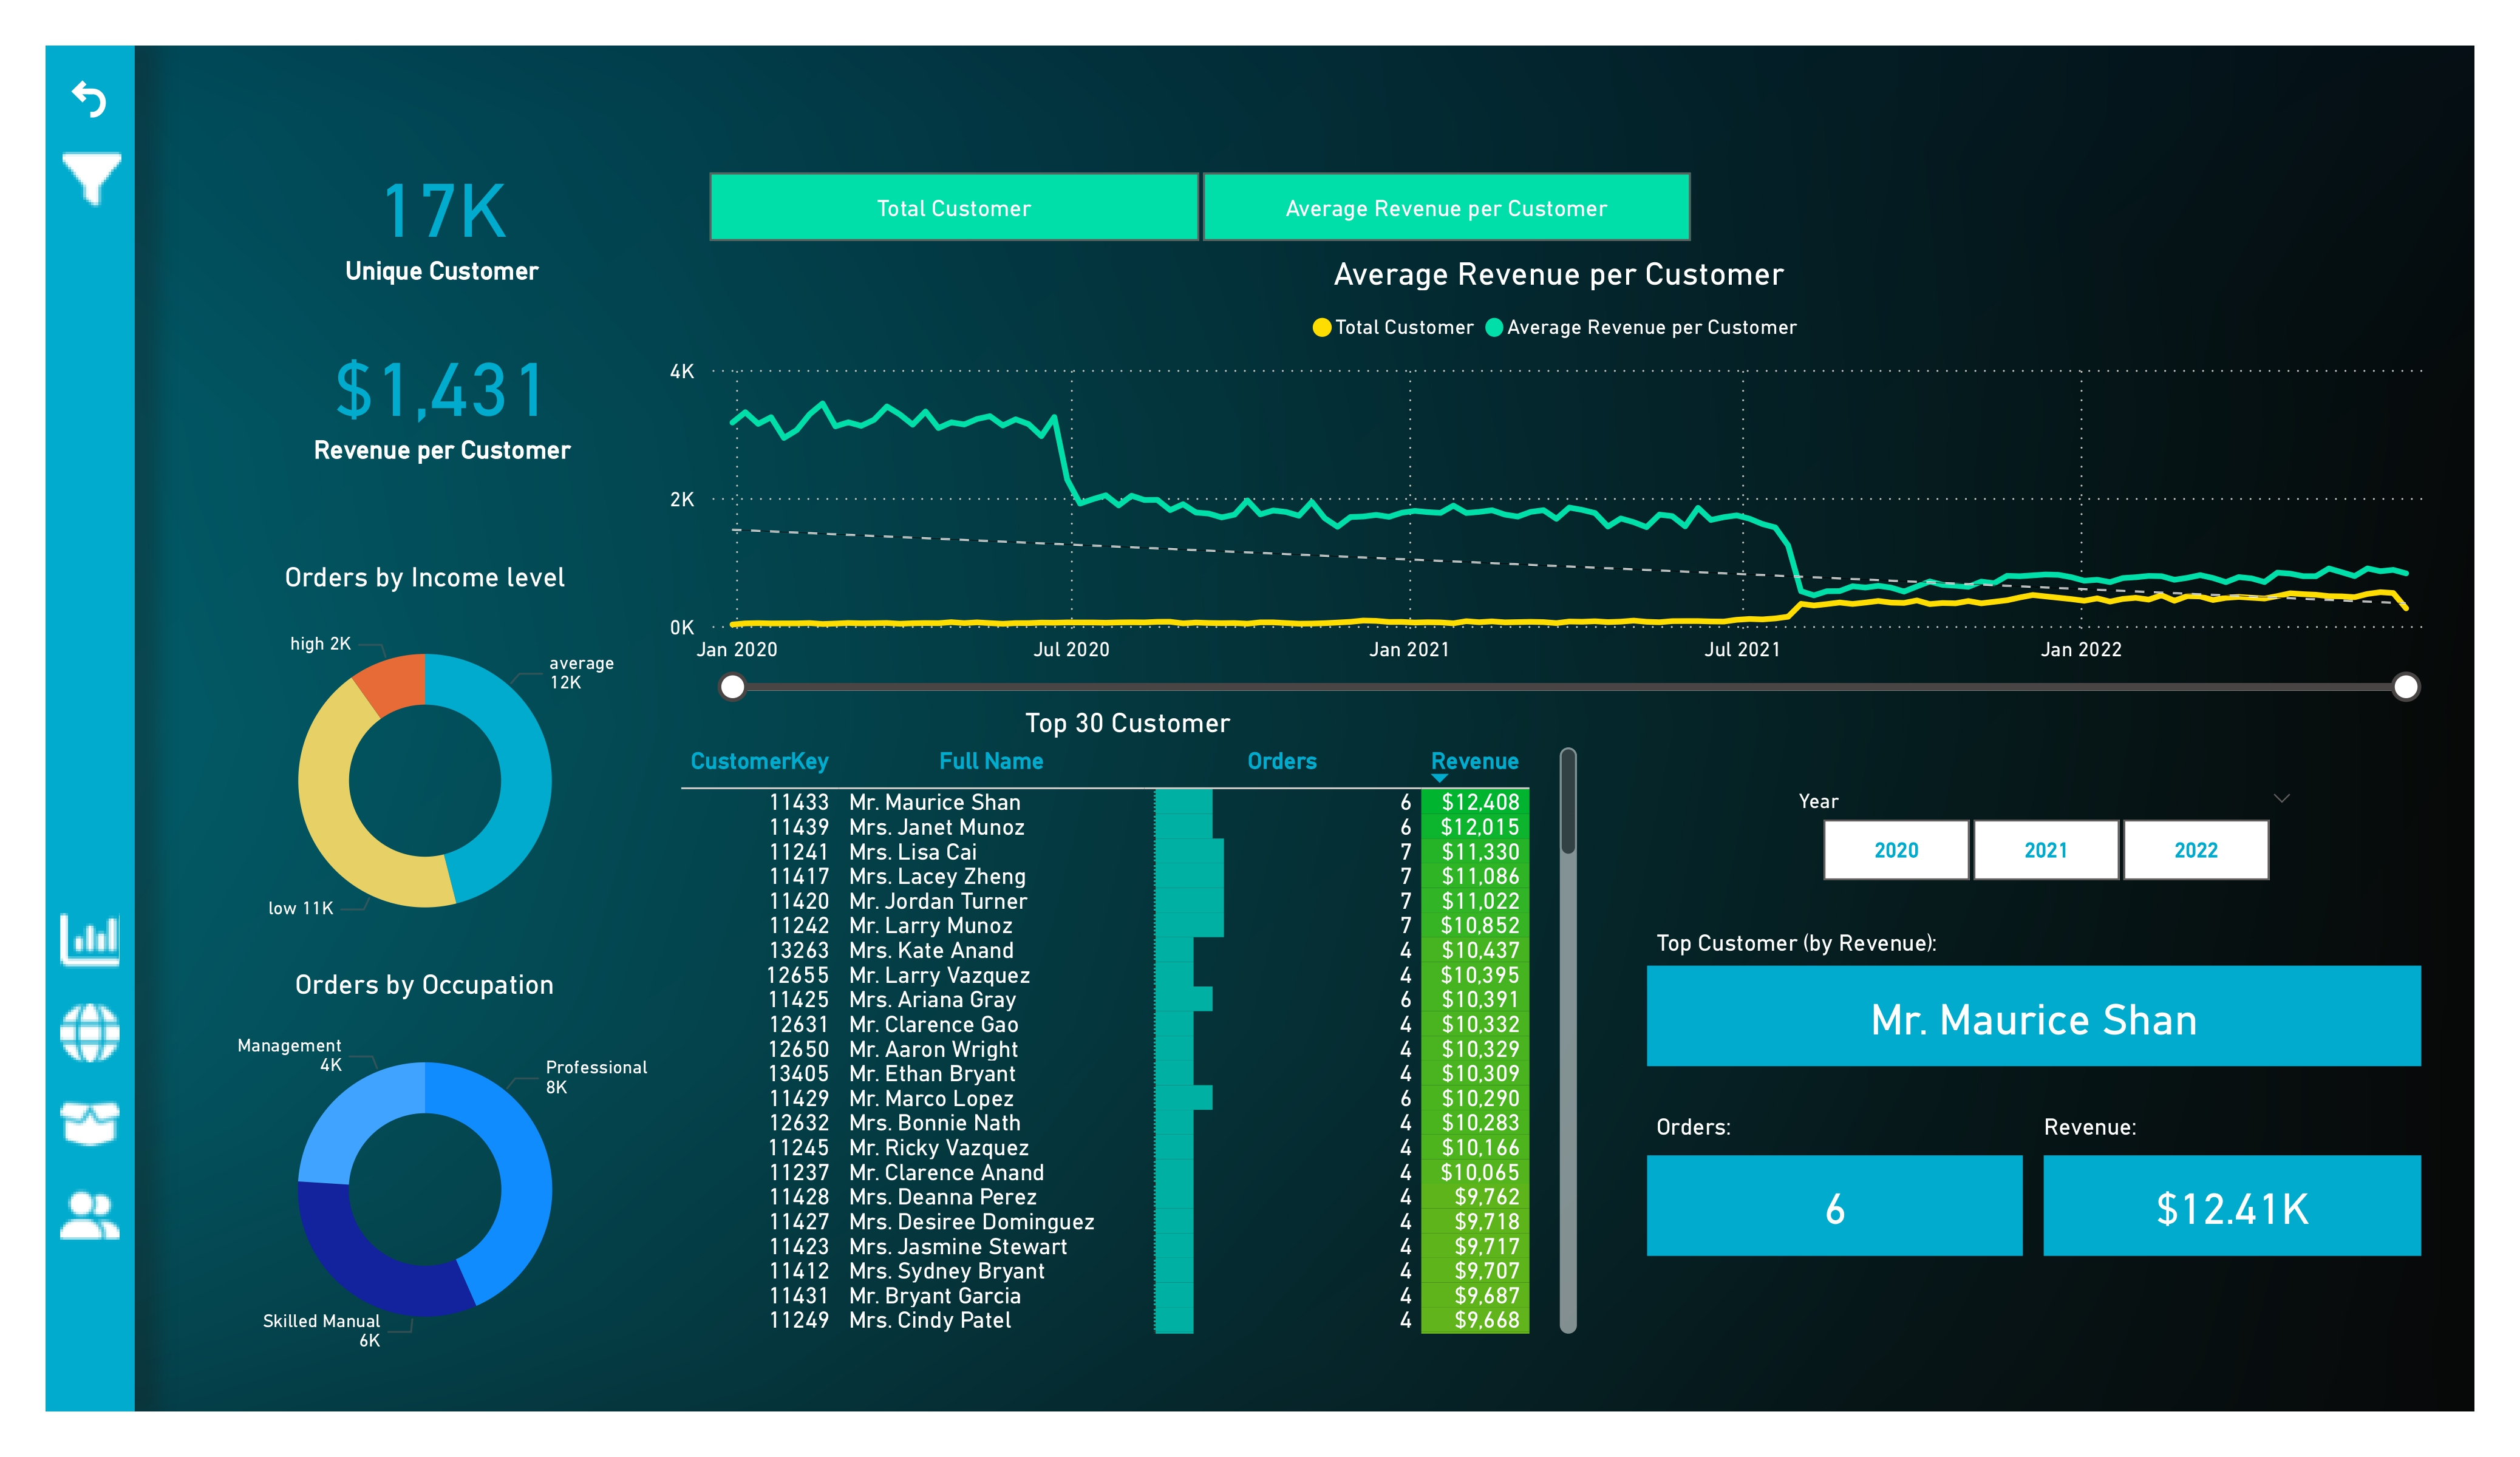

This screenshot's page, from the dashboard's own definition file:
{"tool":"powerbi","page":{"name":"Customer Details","canvas":[1280,720],"ordinal":3},"visuals":[{"type":"card","fields":{"Values":["Measure Calculations.Total Customer"]},"box":[127.8,42.6,162.7,94.9],"z":0},{"type":"shape","box":[0,0,47.5,719.9],"z":1000},{"type":"card","fields":{"Values":["Measure Calculations.Average Revenue per Customer"]},"box":[127.8,139.4,162.7,90.4],"z":2000},{"type":"lineChart","fields":{"Y":["Measure Calculations.Total Customer","Measure Calculations.Average Revenue per Customer"],"Category":["Calendar Lookup.Date Hierarchy.Year","Calendar Lookup.Date Hierarchy.Start of Month","Calendar Lookup.Date Hierarchy.Start of Week","Calendar Lookup.Date Hierarchy.Date"]},"box":[324,110.4,946.9,238.8],"z":3000},{"type":"donutChart","title":"Orders by Income level","fields":{"Category":["Customer Lookup.Income level"],"Y":["Measure Calculations.Total Orders"]},"box":[76.1,271.7,247.8,215.7],"z":4000},{"type":"donutChart","title":"Orders by Occupation","fields":{"Y":["Measure Calculations.Total Orders"],"Category":["Customer Lookup.Occupation"]},"box":[76.1,487.4,247.8,215.7],"z":5000},{"type":"tableEx","title":"Top 30 Customer","fields":{"Values":["Customer Lookup.CustomerKey","Customer Lookup.Full Name with Prefix","Measure Calculations.Total Orders","Measure Calculations.Total Revenue"]},"box":[329.2,349,482.8,335.1],"z":6000},{"type":"textbox","box":[843.9,458,191.8,27.2],"z":7000},{"type":"textbox","box":[843.6,555.3,191.9,27.2],"z":8000},{"type":"textbox","box":[1048,555.3,191.9,27.2],"z":9000},{"type":"card","fields":{"Values":["Customer Lookup.Full Name (Customer Detail)"]},"box":[844.4,485.5,407.3,52.9],"z":10000},{"type":"card","fields":{"Values":["Measure Calculations.Total Orders (Customer Details)"]},"box":[843.6,585.4,198.5,52.9],"z":11000},{"type":"card","fields":{"Values":["Measure Calculations.Total Revenue (Customer Details)"]},"box":[1053.2,585.4,198.5,52.9],"z":12000},{"type":"slicer","fields":{"Values":["Calendar Lookup.Year"]},"box":[910.5,386.9,285.3,60.3],"z":13000},{"type":"actionButton","box":[9.2,14.1,28.3,28.3],"z":14000},{"type":"actionButton","box":[4.4,451.3,38.9,40.2],"z":15000},{"type":"actionButton","box":[4.4,499.5,38.9,40.2],"z":16000},{"type":"actionButton","box":[4.4,547.8,38.9,40.2],"z":17000},{"type":"actionButton","box":[4.4,596.1,38.9,40.2],"z":18000},{"type":"slicer","fields":{"Values":["Customer Metric Selection.Customer Metric Selection"]},"box":[324,60,566.7,50.3],"z":19000},{"type":"actionButton","box":[4.7,49.6,38.9,40.2],"z":20000}]}

Visuals, with their boxes on the page's 1280x720 design canvas (x1, y1, x2, y2). These are canvas units, not pixel positions in the 2520x1457 screenshot, which may show the page scaled, cropped or inside an application window:
card - Measure Calculations.Total Customer: crop(128, 43, 290, 138)
shape: crop(0, 0, 48, 720)
card - Measure Calculations.Average Revenue per Customer: crop(128, 139, 290, 230)
lineChart - Measure Calculations.Total Customer x Measure Calculations.Average Revenue per Customer: crop(324, 110, 1271, 349)
"Orders by Income level" donutChart: crop(76, 272, 324, 487)
"Orders by Occupation" donutChart: crop(76, 487, 324, 703)
"Top 30 Customer" tableEx: crop(329, 349, 812, 684)
textbox: crop(844, 458, 1036, 485)
textbox: crop(844, 555, 1036, 582)
textbox: crop(1048, 555, 1240, 582)
card - Customer Lookup.Full Name (Customer Detail): crop(844, 486, 1252, 538)
card - Measure Calculations.Total Orders (Customer Details): crop(844, 585, 1042, 638)
card - Measure Calculations.Total Revenue (Customer Details): crop(1053, 585, 1252, 638)
slicer - Calendar Lookup.Year: crop(910, 387, 1196, 447)
actionButton: crop(9, 14, 38, 42)
actionButton: crop(4, 451, 43, 492)
actionButton: crop(4, 500, 43, 540)
actionButton: crop(4, 548, 43, 588)
actionButton: crop(4, 596, 43, 636)
slicer - Customer Metric Selection.Customer Metric Selection: crop(324, 60, 891, 110)
actionButton: crop(5, 50, 44, 90)
